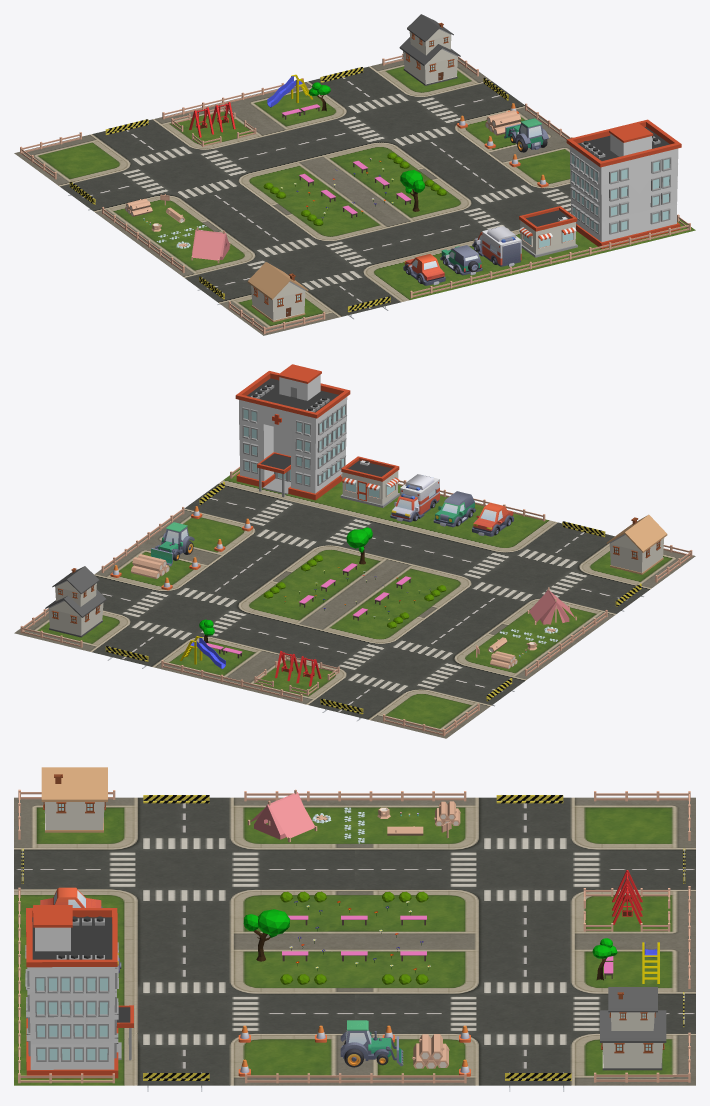
The model's file is CityMap.glb.
3 views of the same model, one above another, from view 1: azimuth 30°, elevation 25°; view 2: azimuth 150°, elevation 25°; view 3: azimuth 270°, elevation 25° (orthographic). The views are drawn at different scales.
Parts seen in each view (by area): view 1: Map1, Hospital_Cube.023, House3_Cube.034, House2_Cube.035, Shop_Cube.006, body.002, tent_detailedOpen, body.001, body, body.003, log_stackLarge.001, slide (+1 smaller); view 2: Map1, Hospital_Cube.023, House3_Cube.034, House2_Cube.035, Shop_Cube.006, body.002, body, body.001, tent_detailedOpen, body.003, log_stackLarge.001, slide; view 3: Map1, Hospital_Cube.023, House3_Cube.034, House2_Cube.035, tent_detailedOpen, body.003, tree.001, log_stackLarge.001, body.001, Wood Road Block Large.005, Wood Road Block Large.006, Wood Road Block Large.002 (+3 smaller).
Part boxes in pixels (x1,y1,x2,y2): Map1: (14,58,695,335); Hospital_Cube.023: (566,119,681,248); House3_Cube.034: (399,14,460,85); House2_Cube.035: (247,262,308,322); Shop_Cube.006: (519,206,577,257); body.002: (472,226,521,266); tent_detailedOpen: (191,227,230,263); body.001: (403,254,445,285); body: (440,245,482,275); body.003: (510,118,548,149); log_stackLarge.001: (485,110,520,135); slide: (267,74,312,107); Map1: (14,468,695,738); Hospital_Cube.023: (235,364,350,500); House3_Cube.034: (45,566,106,637); House2_Cube.035: (606,514,667,574); Shop_Cube.006: (340,456,399,507); body.002: (390,474,439,522); body: (433,491,475,527); body.001: (472,502,513,536); tent_detailedOpen: (527,587,576,624); body.003: (157,522,194,554); log_stackLarge.001: (131,554,169,578); slide: (180,636,225,668); Map1: (14,797,695,1085); Hospital_Cube.023: (25,905,133,1078); House3_Cube.034: (600,987,666,1070); House2_Cube.035: (41,767,107,832); tent_detailedOpen: (247,789,317,842); body.003: (340,1020,391,1060); tree.001: (243,909,290,961); log_stackLarge.001: (412,1034,449,1068); body.001: (40,887,102,907); Wood Road Block Large.005: (496,794,563,803); Wood Road Block Large.006: (143,795,209,803); Wood Road Block Large.002: (143,1072,209,1091).
Bounding box in the file's own units: 80.53 × 18.87 × 80.53.
326 materials, 22 textured.
